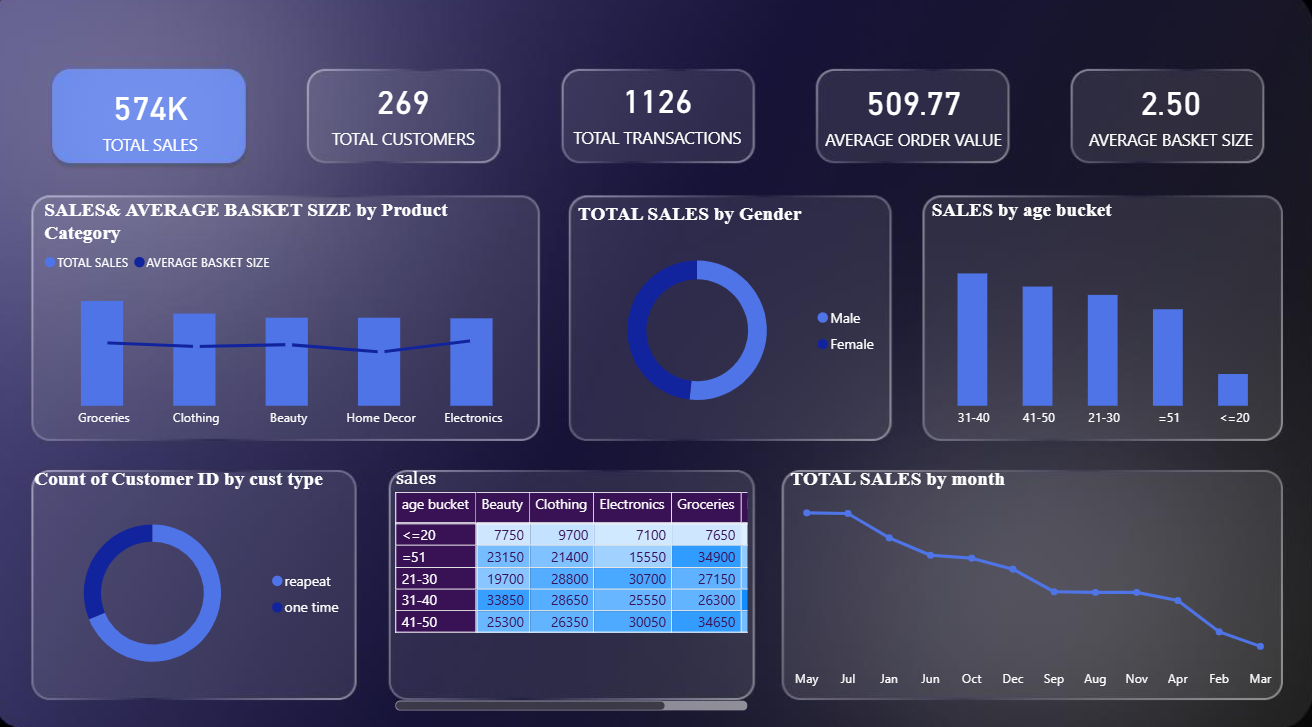

The page's visual inventory and layout, read from the dashboard file:
{"tool":"powerbi","page":{"name":"Page 1","canvas":[1280,720],"ordinal":0},"visuals":[{"type":"card","fields":{"Values":["measure.TOTAL SALES"]},"box":[48.6,77,214.9,94.6],"z":0},{"type":"card","fields":{"Values":["measure.TOTAL CUSTOMERS"]},"box":[302.8,73.6,194.2,89.3],"z":1000},{"type":"card","fields":{"Values":["measure.TOTAL TRANSACTIONS"]},"box":[547.3,72.7,195,90],"z":2000},{"type":"card","fields":{"Values":["measure.AVERAGE ORDER VALUE"]},"box":[794.6,74.3,194.6,89.2],"z":3000},{"type":"card","fields":{"Values":["measure.AVERAGE BASKET SIZE"]},"box":[1043.2,74.3,194.6,89.2],"z":4000},{"type":"lineClusteredColumnComboChart","title":" SALES& AVERAGE BASKET SIZE by Product Category","fields":{"Category":["retail_sales.Product Category"],"Y":["measure.TOTAL SALES"],"Y2":["measure.AVERAGE BASKET SIZE"]},"box":[48.6,202.7,482.4,229.7],"z":5000},{"type":"donutChart","fields":{"Y":["measure.TOTAL SALES"],"Category":["retail_sales.Gender"]},"box":[563.5,206.8,305.4,225.7],"z":6000},{"type":"columnChart","title":" SALES by age bucket","fields":{"Category":["retail_sales.age bucket"],"Y":["measure.TOTAL SALES"]},"box":[905.4,202.7,343.2,229.7],"z":7000},{"type":"donutChart","fields":{"Category":["customer type.cust type "],"Y":["Count(customer type.Customer ID)"]},"box":[39.2,462.2,313.5,221.6],"z":8000},{"type":"pivotTable","title":"sales","fields":{"Rows":["retail_sales.age bucket"],"Columns":["retail_sales.Product Category"],"Values":["measure.TOTAL SALES"]},"box":[387.8,462.2,350,239.2],"z":9000},{"type":"lineChart","fields":{"Y":["measure.TOTAL SALES"],"Category":["retail_sales.month"]},"box":[768.9,462.2,479.7,221.6],"z":10000}]}

Visuals, with their boxes in screenshot pixels (x1, y1, x2, y2), scaled from the page's 1280x720 canvas onto the 1312x727 screenshot:
card - measure.TOTAL SALES: (50,78,270,173)
card - measure.TOTAL CUSTOMERS: (310,74,509,164)
card - measure.TOTAL TRANSACTIONS: (561,73,761,164)
card - measure.AVERAGE ORDER VALUE: (814,75,1014,165)
card - measure.AVERAGE BASKET SIZE: (1069,75,1269,165)
" SALES& AVERAGE BASKET SIZE by Product Category" lineClusteredColumnComboChart: (50,205,544,437)
donutChart - measure.TOTAL SALES x retail_sales.Gender: (578,209,891,437)
" SALES by age bucket" columnChart: (928,205,1280,437)
donutChart - customer type.cust type  x Count(customer type.Customer ID): (40,467,362,690)
"sales" pivotTable: (397,467,756,708)
lineChart - measure.TOTAL SALES x retail_sales.month: (788,467,1280,690)
